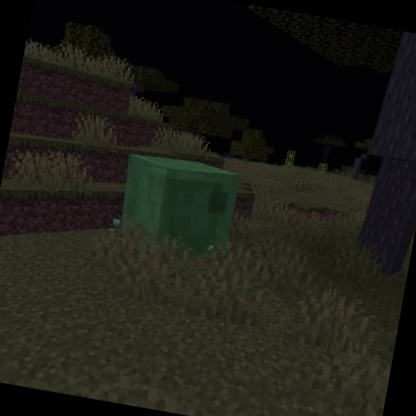slime: (106, 145, 249, 273)
